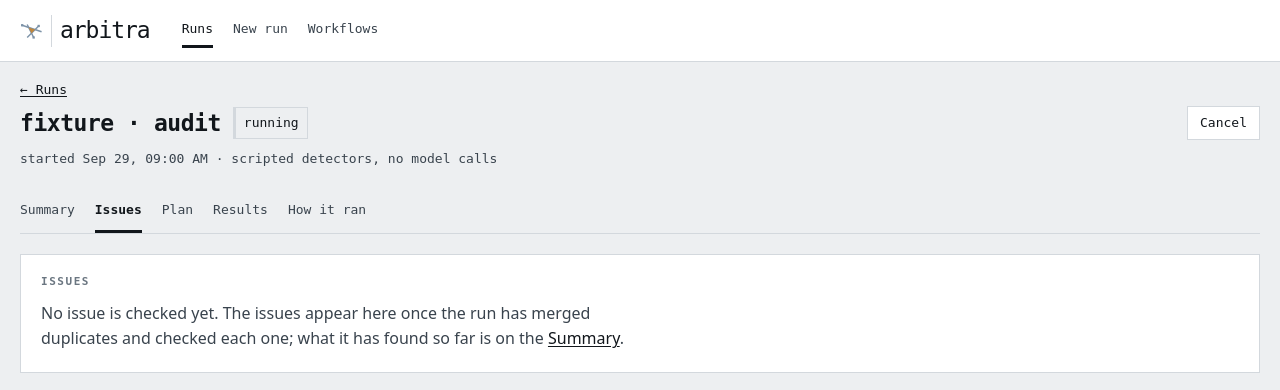
Test: the run page › says what the Issues and Plan tabs will hold while the run is still working
Expected: the text "No issue is checked yet. The issues appear here once the run has merged duplicates and checked each one" is shown, x1=41 y1=302 x2=590 y2=350
Click the link "Plan" at (177, 209), box x1=162 y1=202 x2=193 y2=217
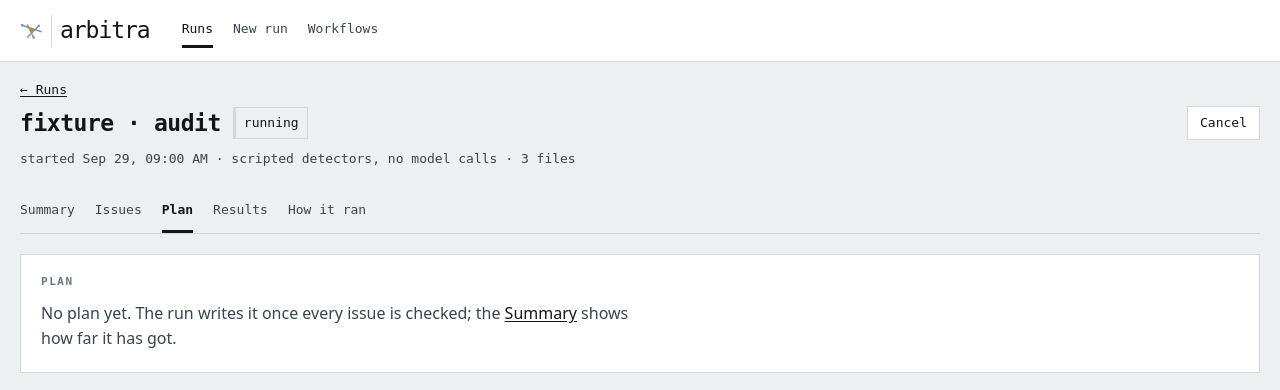
Expected: the text "No plan yet. The run writes it once every issue is checked" is shown, x1=41 y1=302 x2=505 y2=324
